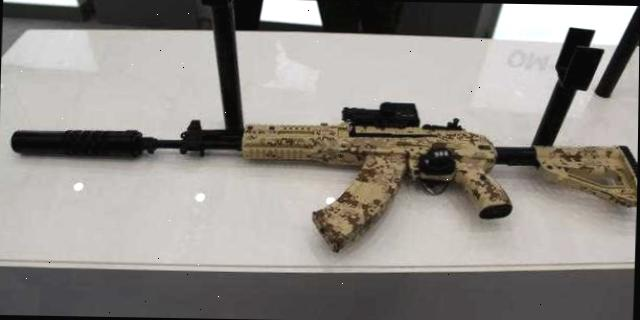rifle: (3, 91, 639, 257)
